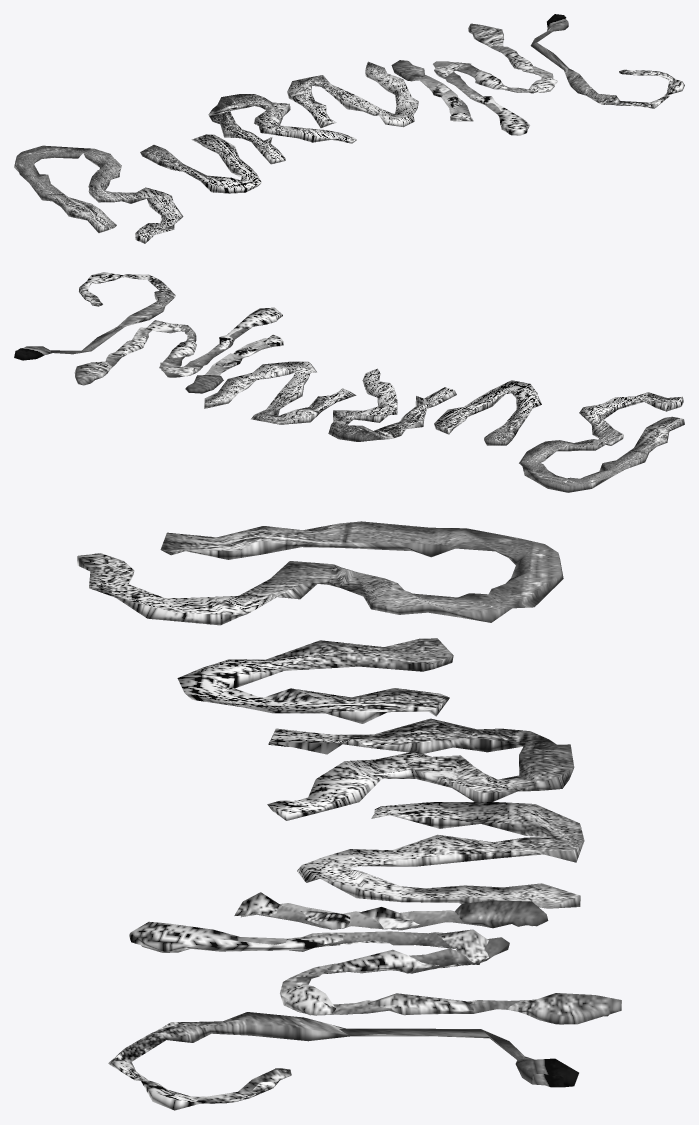
Rendered from 16_BURNING.glb.
3 views of the same model, one above another, from view 1: azimuth 30°, elevation 25°; view 2: azimuth 150°, elevation 25°; view 3: azimuth 270°, elevation 25° (orthographic). The views are drawn at different scales.
Parts seen in each view (by area): view 1: 16_BURNING; view 2: 16_BURNING; view 3: 16_BURNING.
Boxes of the visible parts, x1=… form: 16_BURNING: x1=14, y1=14, x2=684, y2=243; 16_BURNING: x1=14, y1=272, x2=684, y2=492; 16_BURNING: x1=77, y1=521, x2=621, y2=1110.
Size of the model in its own units: 4.88 by 0.0831 by 1.93.
Materials: 1 (1 with a texture image).
